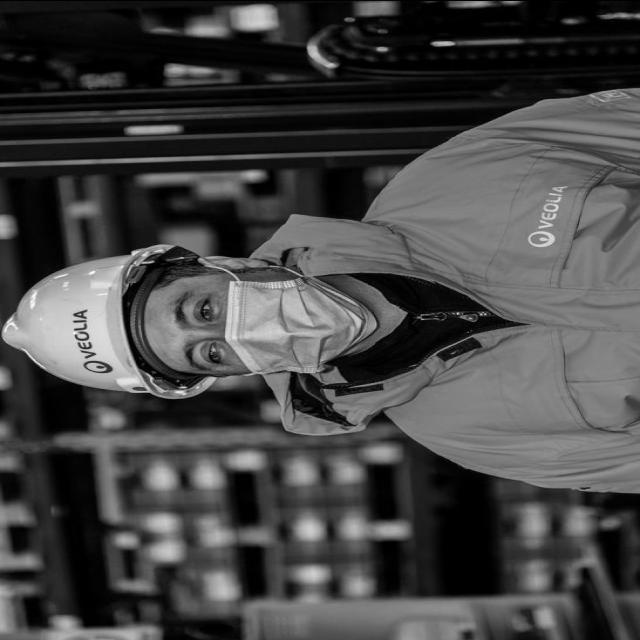safety_helmet: (4, 242, 222, 399)
